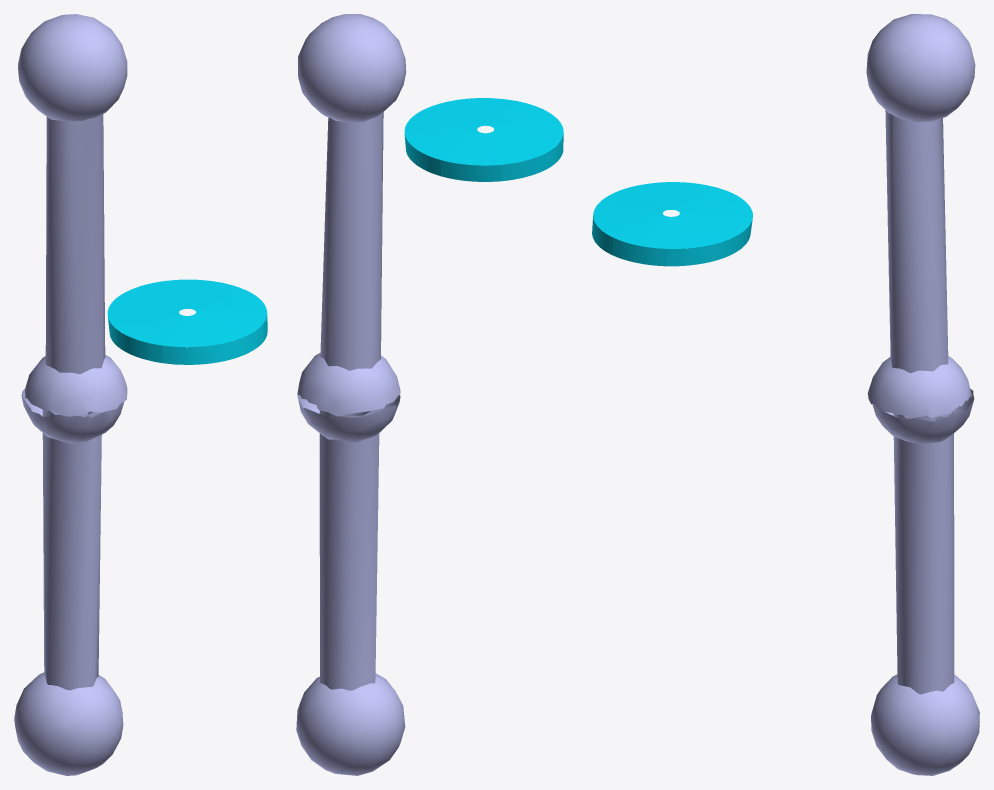
Rendered from Uniqueverse-mechanisms-blendered-missing.fbx.
The picture shows the model from 3 angles, left to right: view 1: azimuth 30°, elevation 25°; view 2: azimuth 150°, elevation 25°; view 3: azimuth 270°, elevation 25°; orthographic projection.
Visible parts, largest first — view 1: s.0115, s.0209; view 2: s.0115, s.0209; view 3: s.0115, s.0209.
Part boxes in pixels (bbox=[...]): s.0115: bbox=[14, 14, 127, 775]; s.0209: bbox=[107, 279, 267, 364]; s.0115: bbox=[296, 14, 406, 775]; s.0209: bbox=[404, 98, 563, 181]; s.0115: bbox=[866, 14, 979, 775]; s.0209: bbox=[592, 182, 752, 266].
Size of the model in its own units: 80.32 by 417 by 195.
